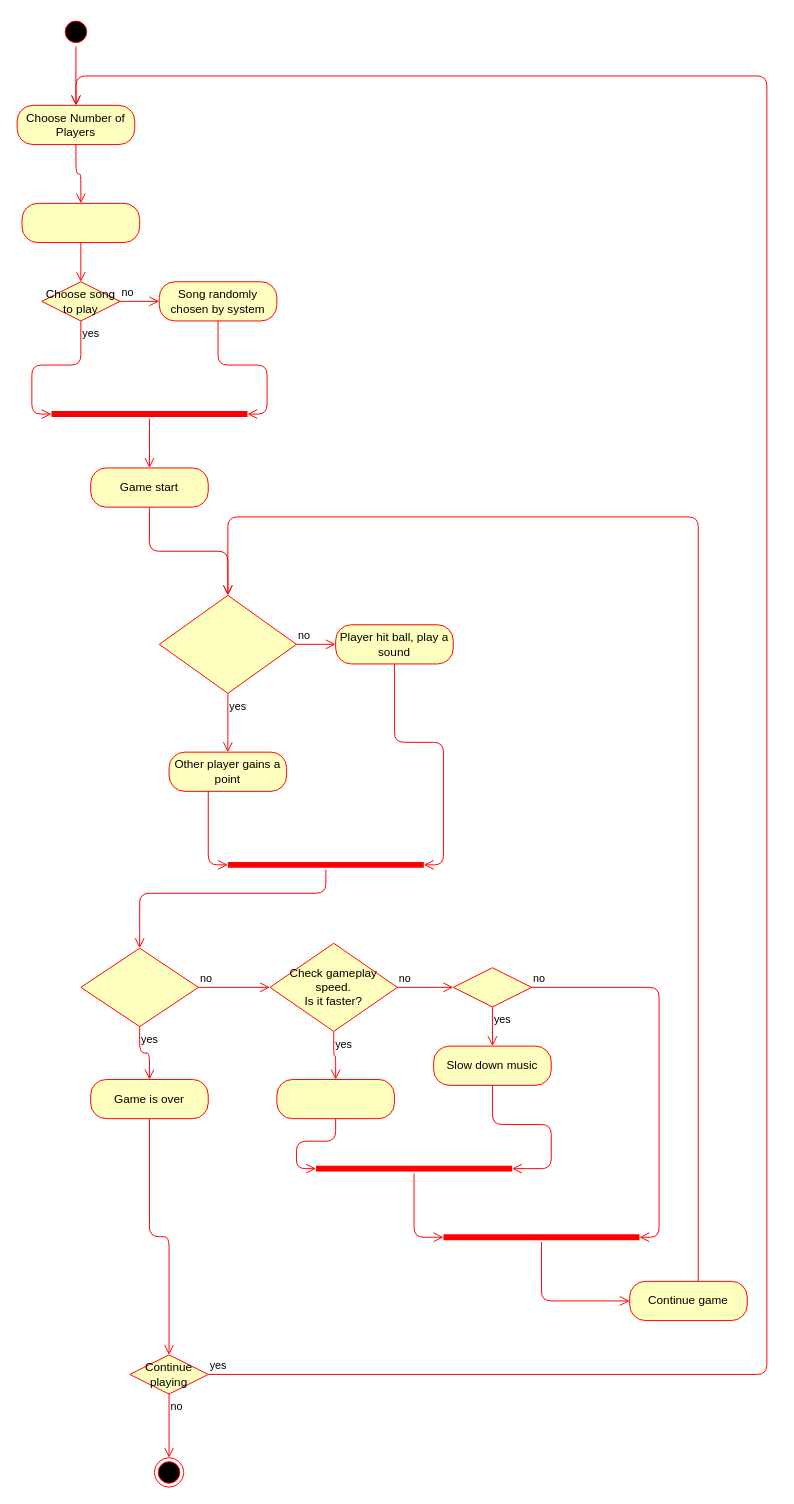
The diagram is 794 pixels wide and 1504 high, and some of its shapes have lost their labels. The box of each missing label's shape, as (x1, y1, x2, y2) in pixels:
Check if a player has gained needed points to win: (80, 947, 198, 1027)
Check if a player has missed the ball: (158, 594, 296, 693)
Choose Number of Points To Win: (21, 202, 140, 243)
Is it slower?: (452, 967, 532, 1007)
Speed up music: (276, 1078, 394, 1119)
